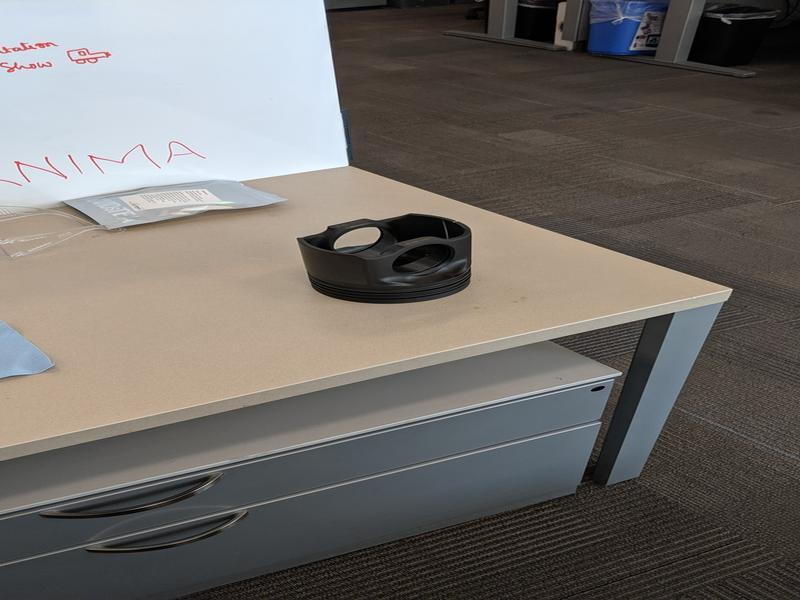piston: (295, 209, 476, 308)
